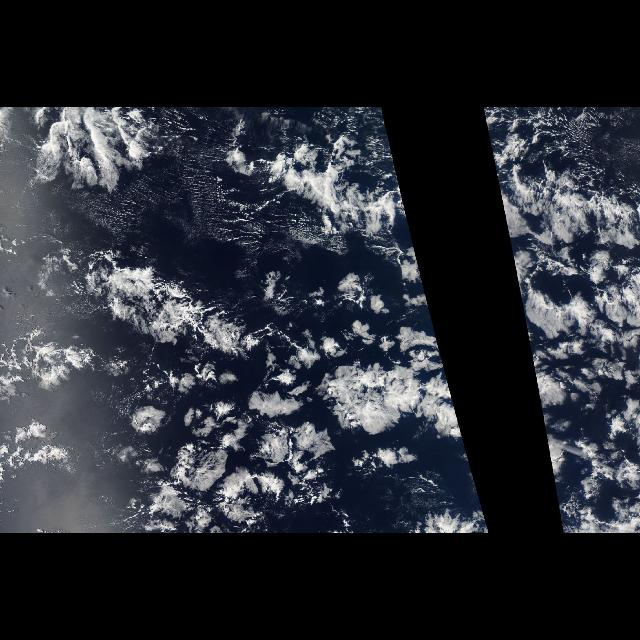Fish: (31, 136, 411, 370)
Flower: (118, 325, 484, 525), (510, 241, 640, 517)
Sugar: (96, 178, 234, 236), (544, 112, 640, 184)
